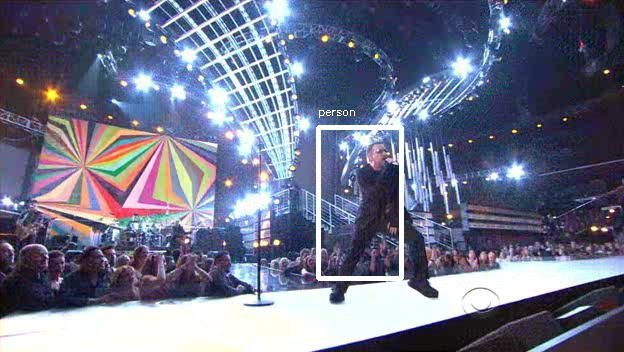person: (352, 142, 412, 253), (349, 142, 409, 253), (355, 142, 415, 253), (352, 139, 412, 250), (352, 145, 412, 256)
target_negative: (103, 29, 534, 219), (198, 34, 380, 261), (162, 9, 424, 137), (535, 57, 614, 288), (330, 111, 384, 289)
